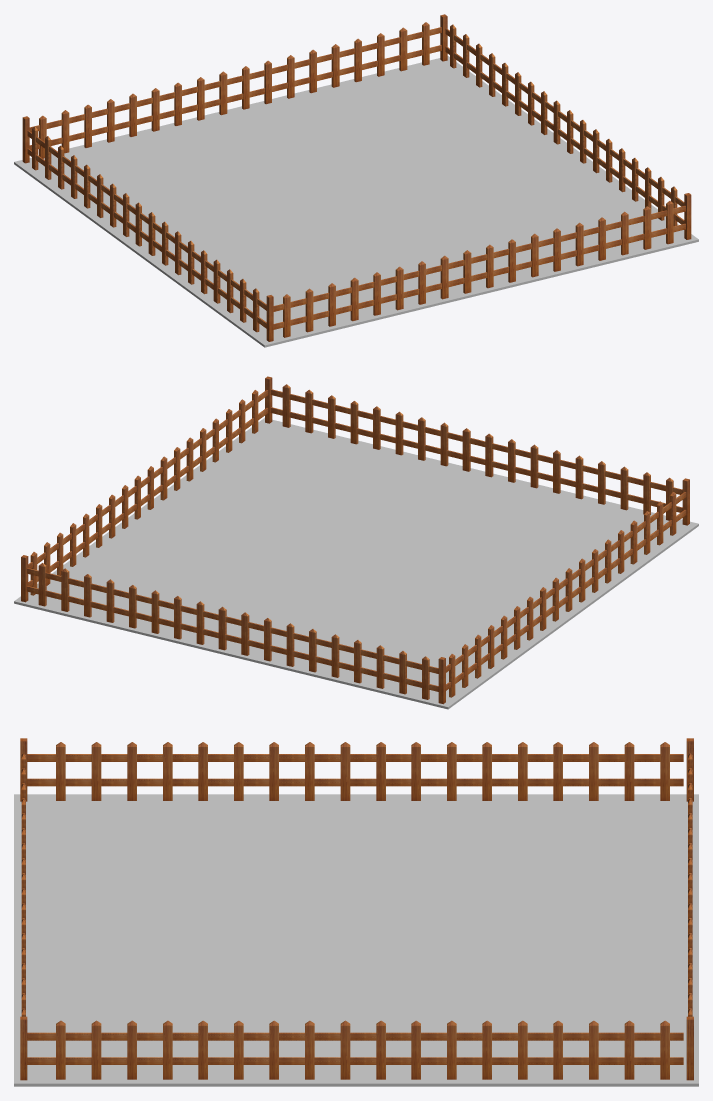
Rendered from ModelGranja2.fbx.
3 views of the same model, one above another, from view 1: azimuth 30°, elevation 25°; view 2: azimuth 150°, elevation 25°; view 3: azimuth 270°, elevation 25° (orthographic). The views are drawn at different scales.
Visible parts, largest first — view 1: Box001, Box155, Box154, Box152, Box153, Box111, Box067, Box113, Box112; view 2: Box001, Box152, Box153, Box154, Box155, Box067, Box111, Box113, Box112; view 3: Box001, Box113, Box111, Box067, Box112, Box094, Box101, Box109, Box083, Box085, Box075, Box093 (+29 smaller).
Boxes of the visible parts, box(x1,y1,x2,y2) form: Box001: box(14, 56, 698, 347); Box155: box(273, 223, 685, 329); Box154: box(273, 206, 685, 311); Box152: box(29, 27, 441, 132); Box153: box(29, 45, 441, 150); Box111: box(27, 148, 266, 328); Box067: box(27, 130, 266, 310); Box113: box(445, 28, 684, 206); Box112: box(445, 46, 684, 224); Box001: box(14, 418, 698, 709); Box152: box(26, 568, 438, 673); Box153: box(26, 586, 438, 691); Box154: box(270, 389, 682, 494); Box155: box(270, 407, 682, 512); Box067: box(446, 492, 686, 672); Box111: box(446, 510, 686, 690); Box113: box(28, 390, 268, 568); Box112: box(28, 408, 268, 586); Box001: box(14, 794, 698, 1086); Box113: box(27, 1032, 683, 1040); Box111: box(27, 778, 683, 786); Box067: box(27, 754, 683, 761); Box112: box(27, 1057, 683, 1064); Box094: box(91, 1020, 101, 1079); Box101: box(340, 1020, 350, 1079); Box109: box(624, 1020, 634, 1079); Box083: box(340, 742, 350, 800); Box085: box(624, 742, 634, 800); Box075: box(91, 742, 101, 800); Box093: box(56, 1020, 65, 1079).
Bounding box in the file's own units: 2121 × 217 × 2121.
